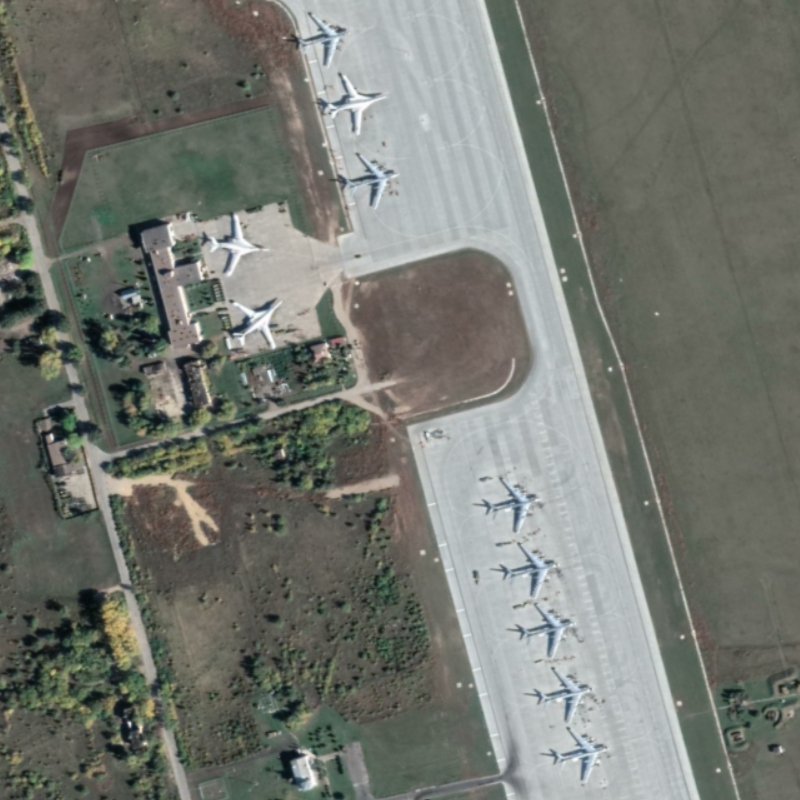A17: (531, 663, 597, 726), (338, 148, 403, 211), (496, 539, 563, 600), (548, 724, 614, 785), (481, 474, 545, 536), (293, 6, 353, 72), (515, 601, 579, 658)
A6: (317, 69, 388, 139), (205, 207, 273, 278), (228, 291, 287, 354)
